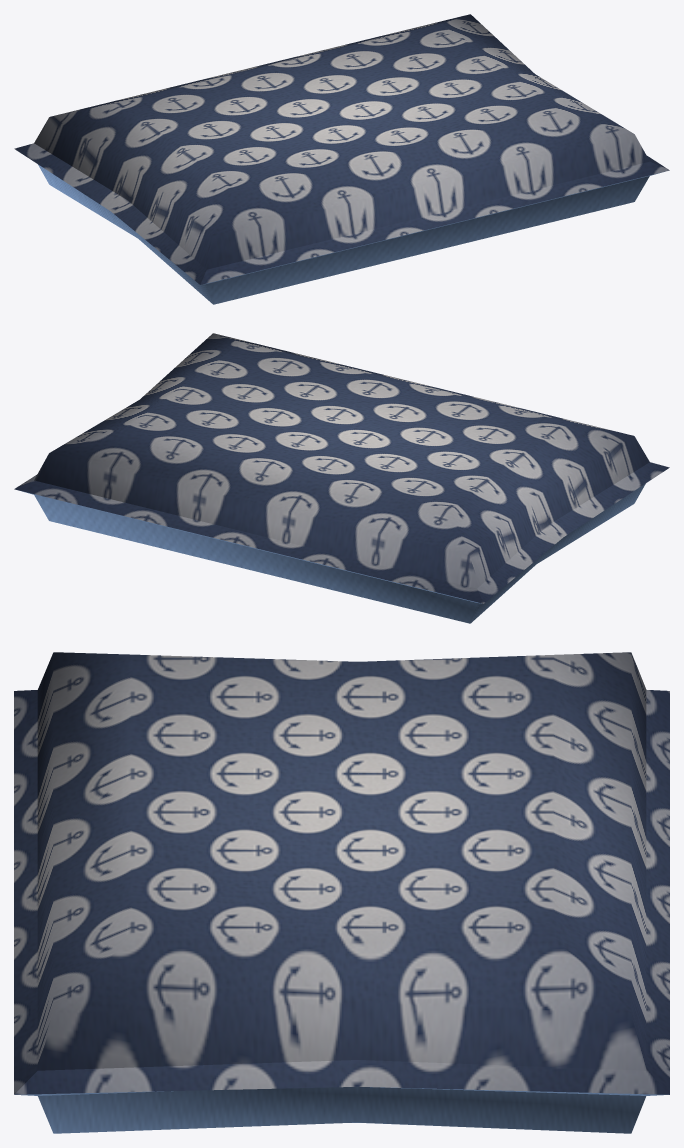
File: Childrens_Pillow_H.FBX
The picture shows the model from 3 angles, top to bottom: view 1: azimuth 30°, elevation 25°; view 2: azimuth 150°, elevation 25°; view 3: azimuth 270°, elevation 25°; orthographic projection. The views are drawn at different scales.
Visible parts, largest first — view 1: Pillow; view 2: Pillow; view 3: Pillow.
Boxes of the visible parts, left/top/right/bottom form: Pillow: left=14, top=14, right=669, bottom=304; Pillow: left=14, top=333, right=669, bottom=623; Pillow: left=14, top=652, right=669, bottom=1133.
Bounding box in the file's own units: 194 × 41.64 × 133.
